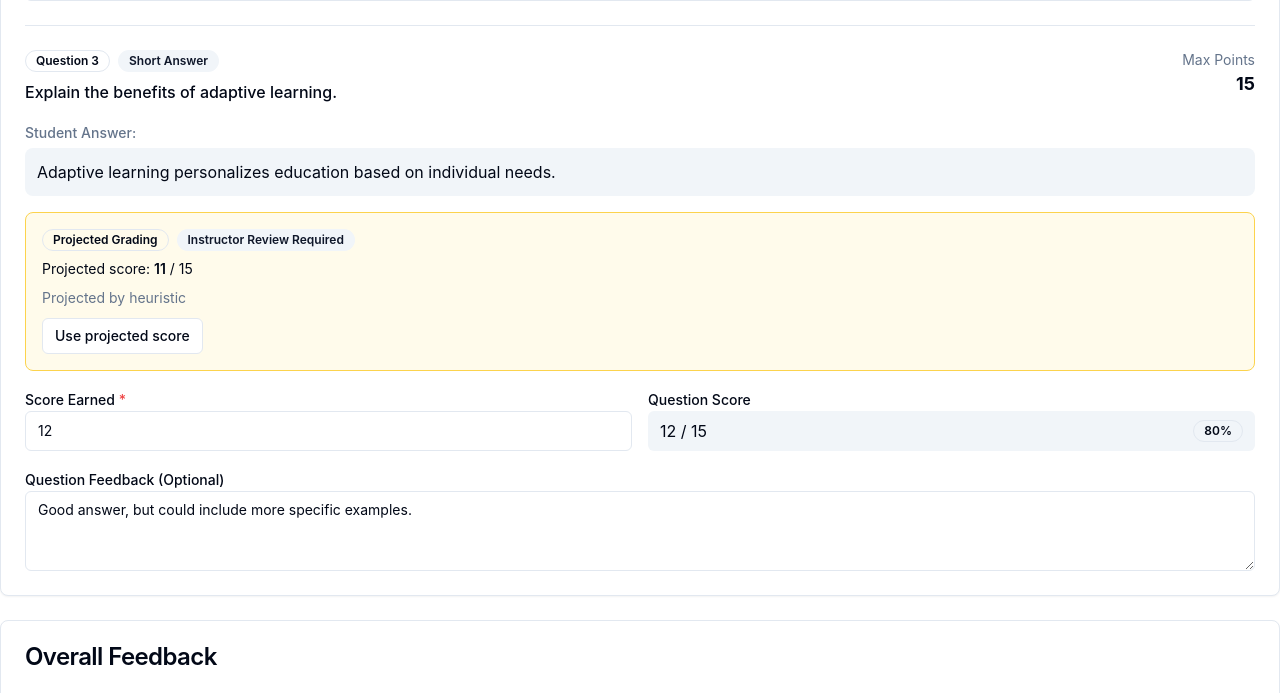
GradingForm › Score Input › should apply projected score when requested
The image size is (1280, 693).
(page scrolled)
What coordinates should you click on to do the following:
click the button "Use projected score"
I would click on:
 (122, 336)
Its box is [42,318,203,354].
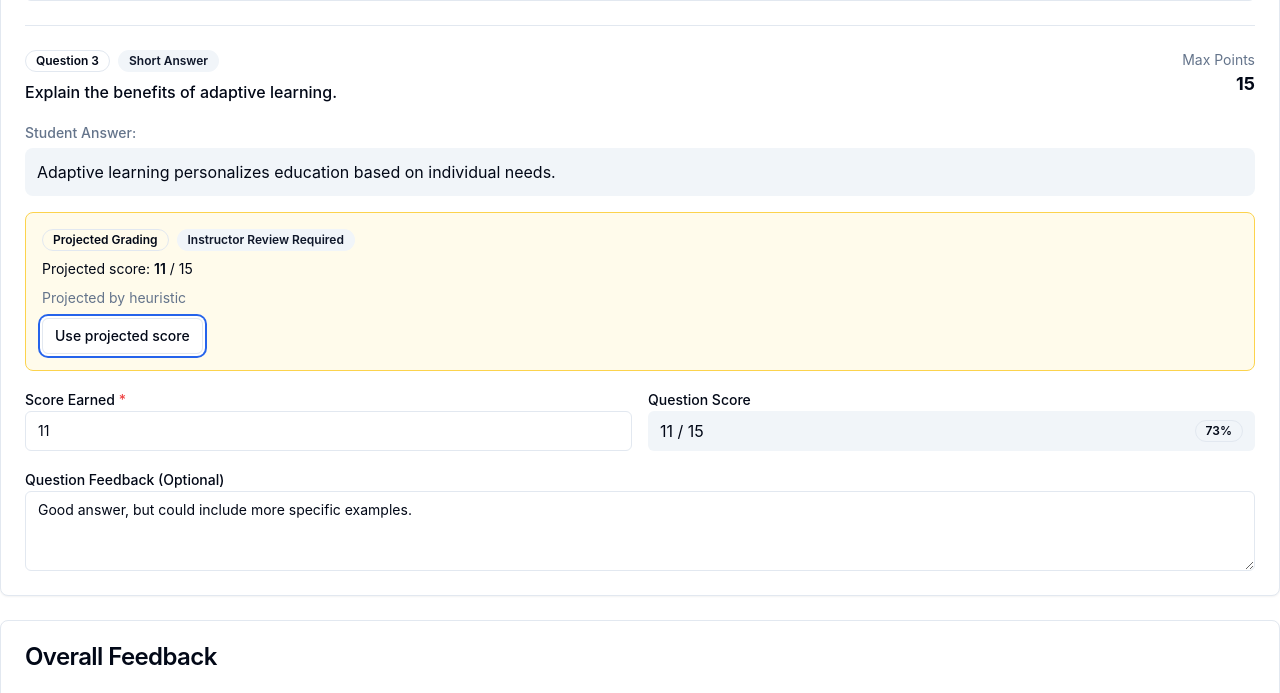
Check: the number field named "score for question 3" holds "11", box [25,411,632,451]
